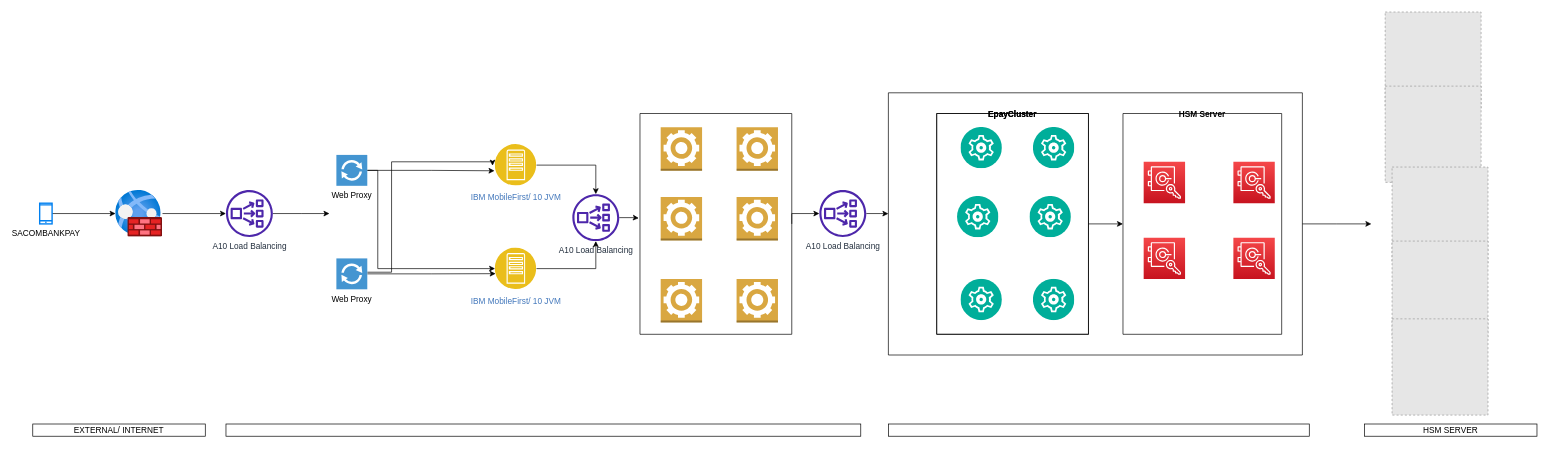
Image size: 1549x449. Some labels were removed from this diagram. Grey dashed boxes stand in for pictures. The box of each missing label's shape, as (x1, y1, x2, y2) in pixels:
CSB Server: (888, 92, 1302, 355)
CSB SYSTEM: (888, 423, 1309, 436)
Transaction Service: (639, 113, 792, 334)
VÍ SYSTEM: (225, 423, 861, 436)
WAF: (115, 190, 162, 237)
